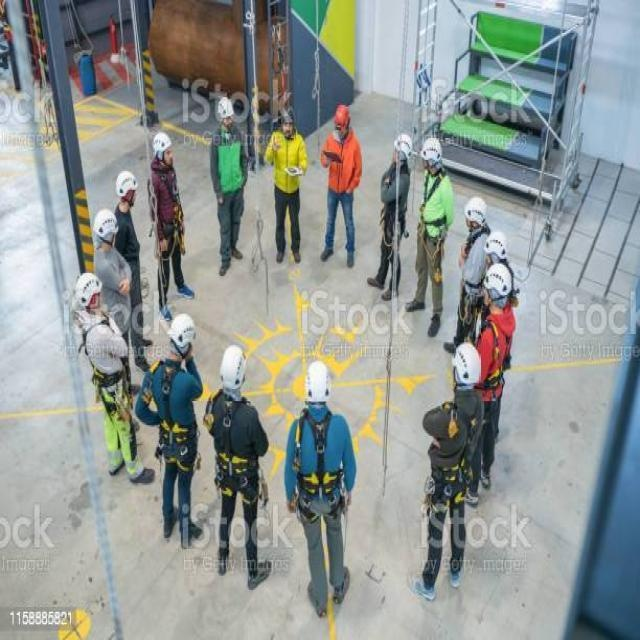Arnes_seguridad: (287, 408, 357, 531), (203, 384, 267, 514), (144, 347, 202, 475), (427, 393, 483, 506), (77, 308, 133, 411), (145, 162, 188, 255), (476, 306, 511, 420), (417, 164, 452, 266), (460, 227, 492, 308)
